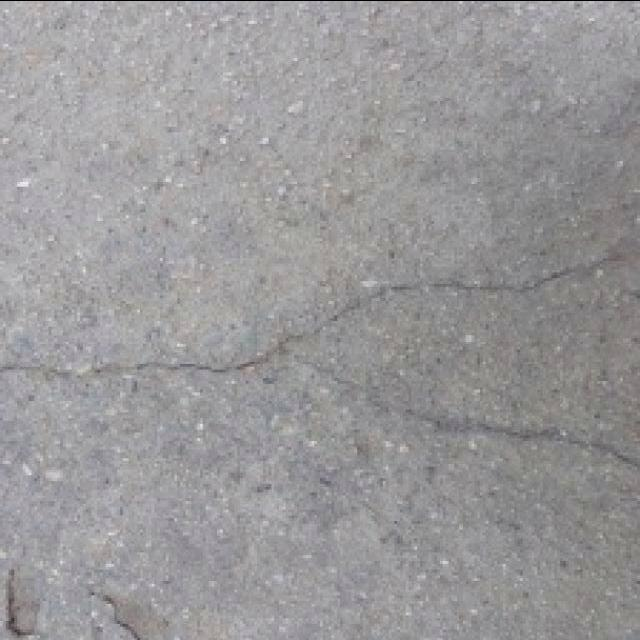SurfaceCrack: (4, 234, 640, 410)
